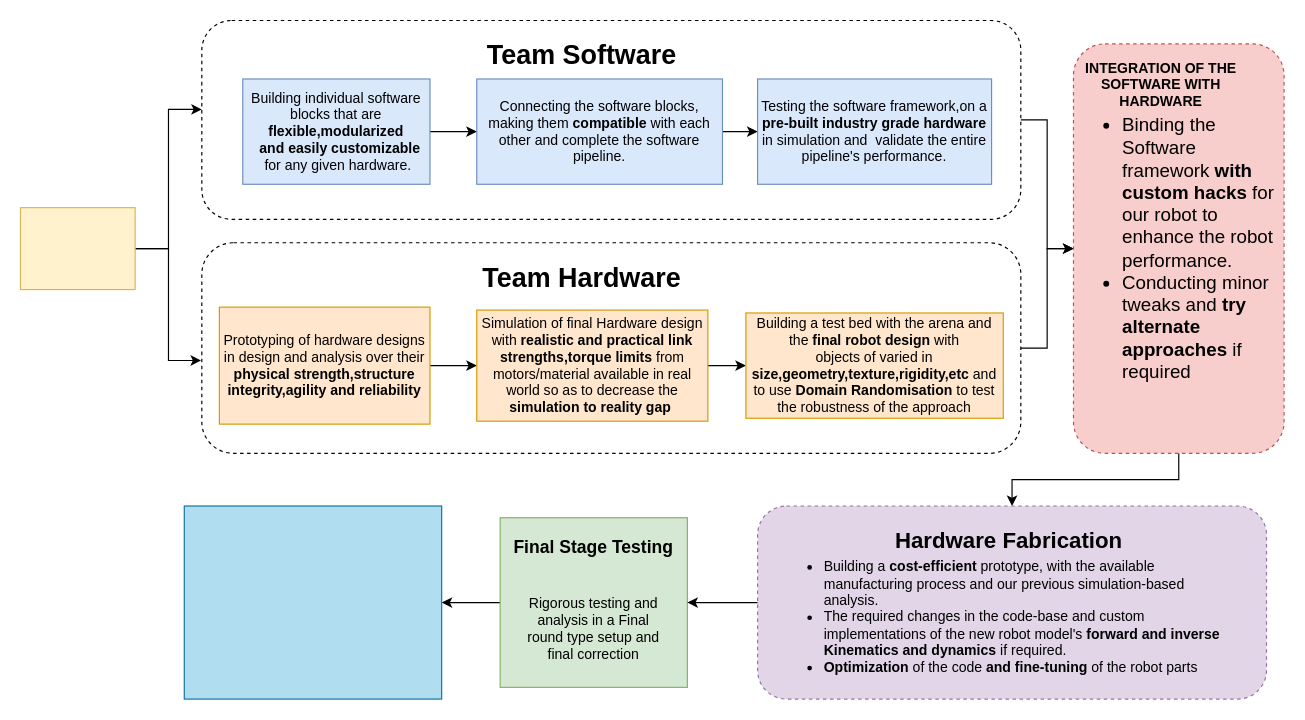
Image size: 1305x720. Some labels were removed from this diagram. The centre of each missing label's shape, as x and y in pixels:
MEET YOU IN NATIONAL FINALE !: [312,602]
White board brainstorming: [77,248]
